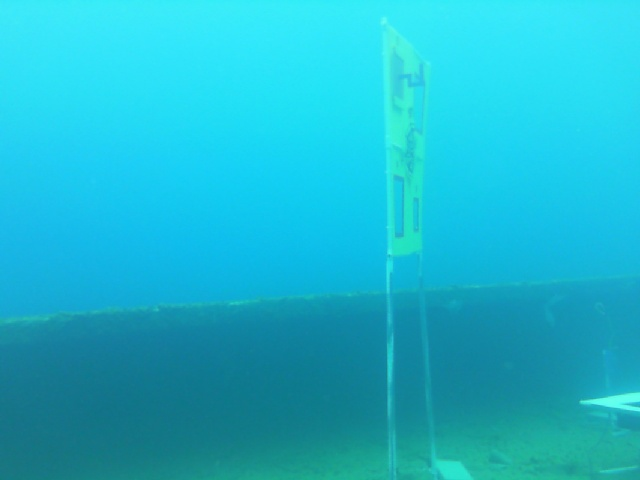torpedo_target: (375, 10, 433, 260)
